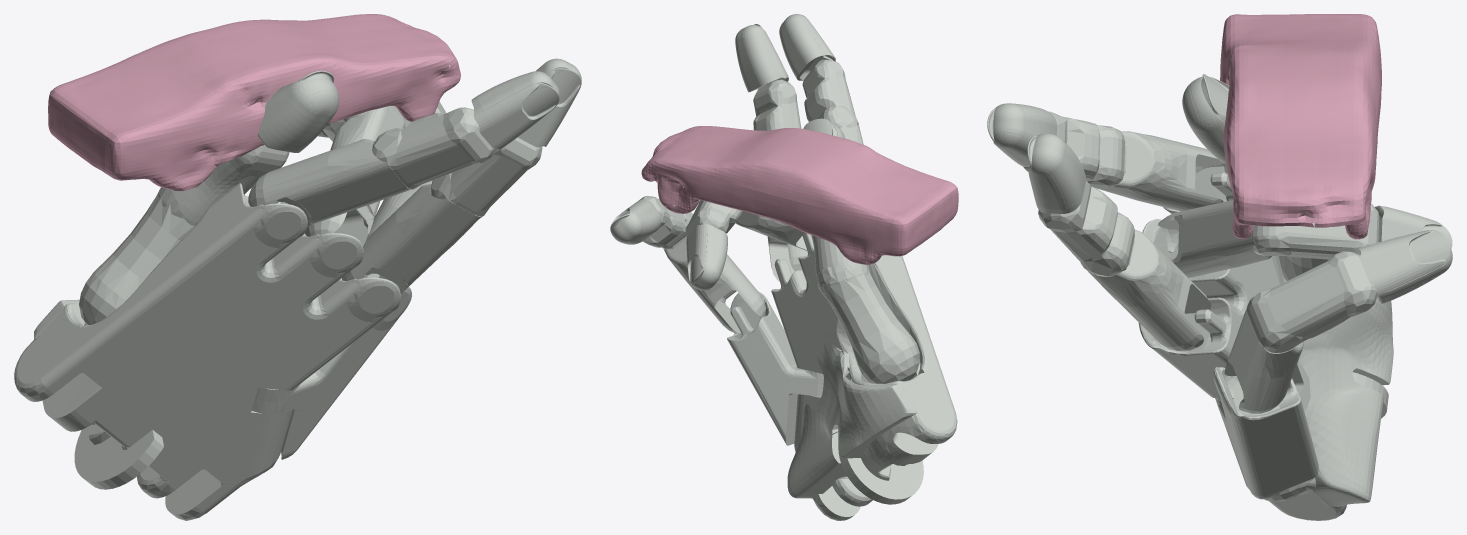
3 views of the same model, side by side, from view 1: azimuth 30°, elevation 25°; view 2: azimuth 150°, elevation 25°; view 3: azimuth 270°, elevation 25° (orthographic). The views are drawn at different scales.
Parts seen in each view (by area): view 1: hand, world; view 2: hand, world; view 3: hand, world.
Boxes of the visible parts, <box> form: hand: <box>14,58,581,520</box>; world: <box>48,14,460,191</box>; hand: <box>610,14,957,520</box>; world: <box>641,126,958,264</box>; hand: <box>987,74,1452,520</box>; world: <box>1220,14,1381,239</box>.
Bounding box in the file's own units: 0.1525 × 0.1724 × 0.1394.
